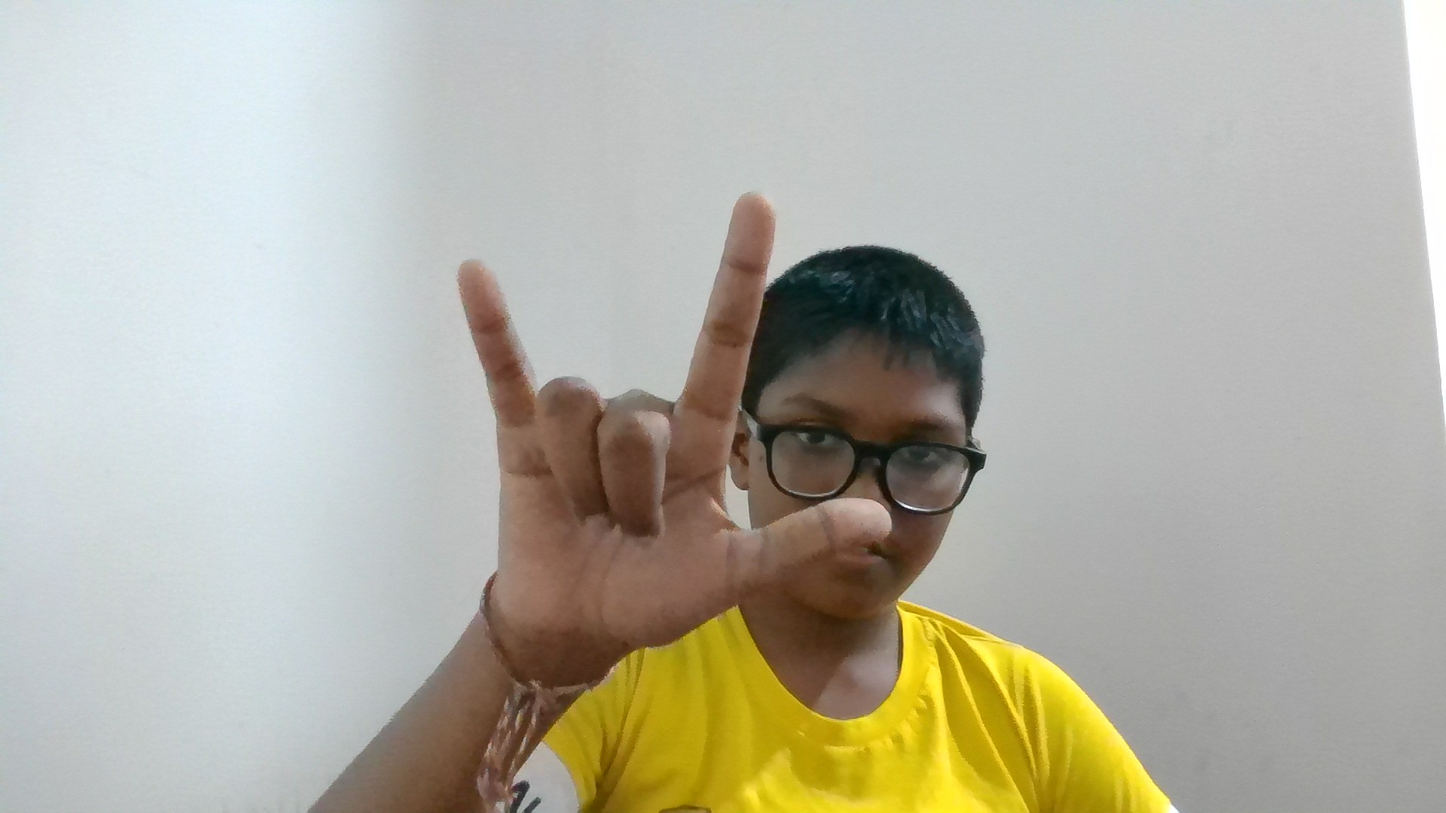I Love You: (356, 176, 922, 644)
